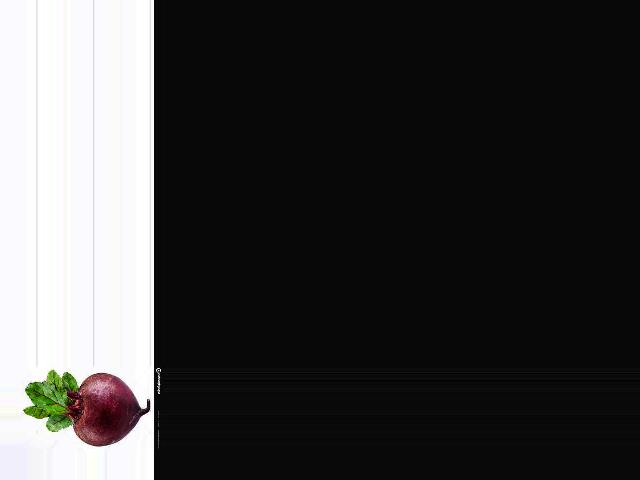beet: (23, 370, 149, 447)
